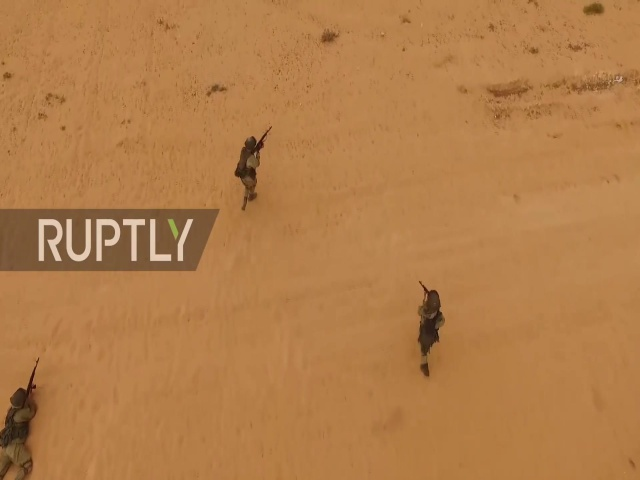person: (1, 367, 39, 480), (410, 280, 445, 379), (233, 138, 266, 210)
